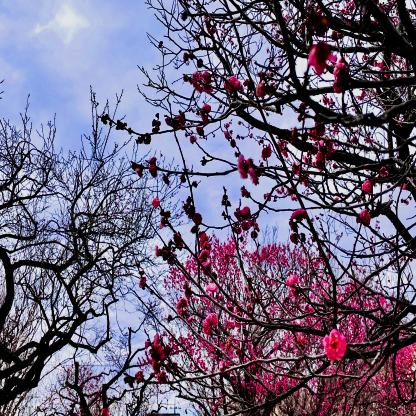Ume: (63, 0, 415, 416)
